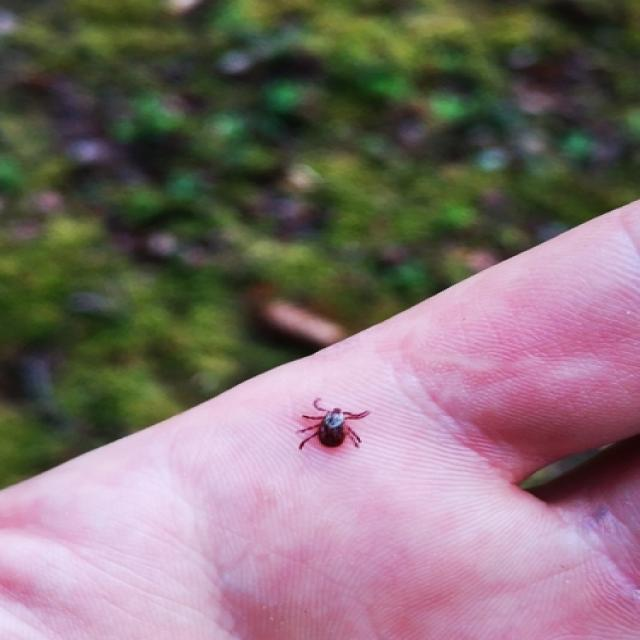Dermacentor Reticulatus-F: (294, 397, 369, 453)
